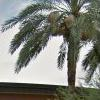Palm tree: (31, 0, 94, 81)
